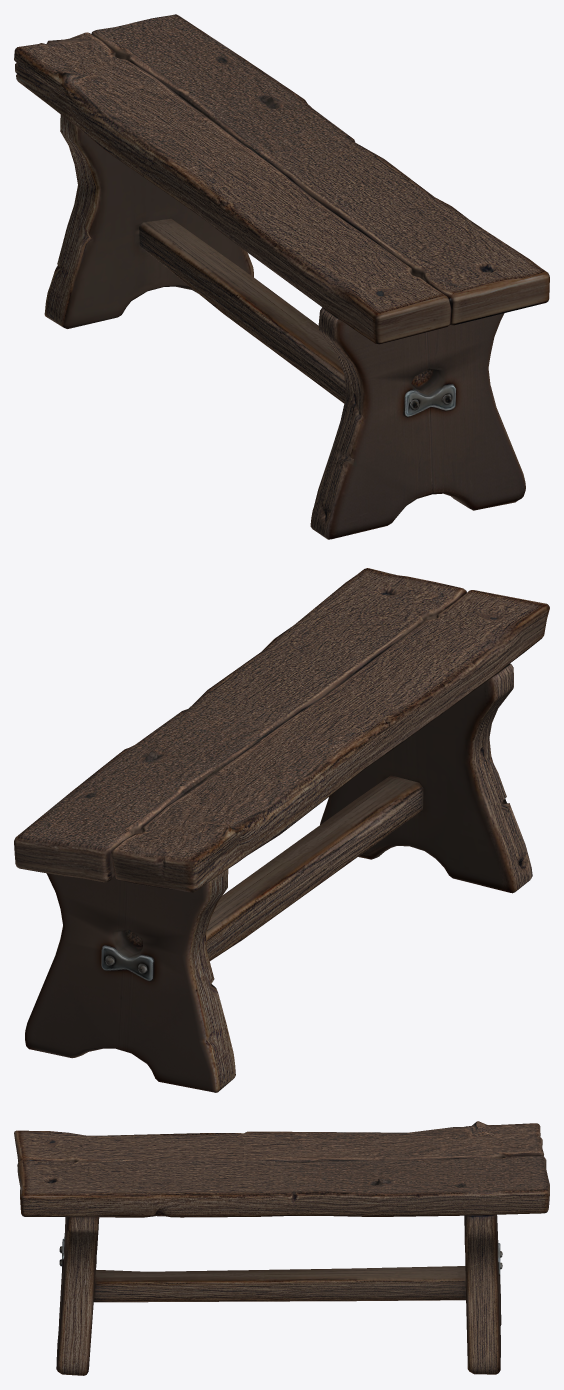
File: panca.fbx
3 renders of one model, top to bottom at view 1: azimuth 30°, elevation 25°; view 2: azimuth 150°, elevation 25°; view 3: azimuth 270°, elevation 25°, orthographic. The views are drawn at different scales.
Parts seen in each view (by area): view 1: tripo_node_de0e2ca6; view 2: tripo_node_de0e2ca6; view 3: tripo_node_de0e2ca6.
Boxes of the visible parts, bbox=[...] form: tripo_node_de0e2ca6: bbox=[14, 14, 549, 539]; tripo_node_de0e2ca6: bbox=[14, 568, 549, 1092]; tripo_node_de0e2ca6: bbox=[14, 1121, 549, 1375].
Bounding box in the file's own units: 0.3247 × 0.397 × 0.9995.
1 material, 1 textured.
